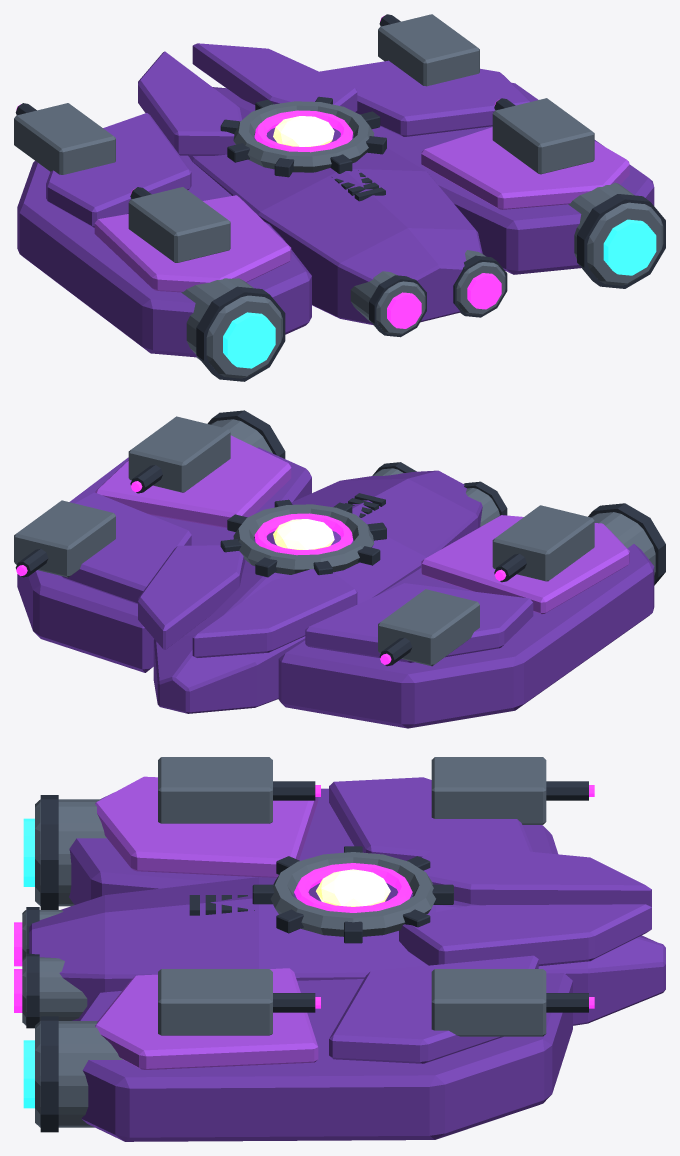
Rendered from tank_enemy.glb.
The picture shows the model from 3 angles, top to bottom: view 1: azimuth 30°, elevation 25°; view 2: azimuth 150°, elevation 25°; view 3: azimuth 270°, elevation 25°; orthographic projection. The views are drawn at different scales.
Parts seen in each view (by area): view 1: tank_enemy__Bastion_Hull, tank_enemy__Bastion_Gunmetal, tank_enemy__Bastion_Armor, tank_enemy__Bastion_Accent, tank_enemy__Bastion_Void, tank_enemy__Bastion_CyanSystems, tank_enemy__Bastion_Energy, tank_enemy__Bastion_HotCore; view 2: tank_enemy__Bastion_Hull, tank_enemy__Bastion_Armor, tank_enemy__Bastion_Gunmetal, tank_enemy__Bastion_Accent, tank_enemy__Bastion_Void, tank_enemy__Bastion_Energy, tank_enemy__Bastion_HotCore; view 3: tank_enemy__Bastion_Hull, tank_enemy__Bastion_Gunmetal, tank_enemy__Bastion_Armor, tank_enemy__Bastion_Accent, tank_enemy__Bastion_Void, tank_enemy__Bastion_Energy, tank_enemy__Bastion_HotCore, tank_enemy__Bastion_CyanSystems.
Part boxes in pixels (x1=…): tank_enemy__Bastion_Hull: x1=17, y1=82, x2=654, y2=357; tank_enemy__Bastion_Gunmetal: x1=14, y1=14, x2=663, y2=378; tank_enemy__Bastion_Armor: x1=46, y1=43, x2=530, y2=227; tank_enemy__Bastion_Accent: x1=94, y1=127, x2=629, y2=292; tank_enemy__Bastion_Void: x1=15, y1=14, x2=665, y2=381; tank_enemy__Bastion_CyanSystems: x1=223, y1=219, x2=656, y2=368; tank_enemy__Bastion_Energy: x1=16, y1=15, x2=501, y2=328; tank_enemy__Bastion_HotCore: x1=273, y1=116, x2=334, y2=146; tank_enemy__Bastion_Hull: x1=17, y1=447, x2=654, y2=728; tank_enemy__Bastion_Armor: x1=61, y1=492, x2=533, y2=662; tank_enemy__Bastion_Gunmetal: x1=14, y1=416, x2=655, y2=666; tank_enemy__Bastion_Accent: x1=95, y1=435, x2=629, y2=613; tank_enemy__Bastion_Void: x1=15, y1=410, x2=665, y2=666; tank_enemy__Bastion_Energy: x1=16, y1=481, x2=506, y2=664; tank_enemy__Bastion_HotCore: x1=273, y1=519, x2=334, y2=549; tank_enemy__Bastion_Hull: x1=29, y1=788, x2=665, y2=1141; tank_enemy__Bastion_Gunmetal: x1=22, y1=757, x2=546, y2=1127; tank_enemy__Bastion_Armor: x1=329, y1=777, x2=651, y2=1063; tank_enemy__Bastion_Accent: x1=95, y1=776, x2=318, y2=1069; tank_enemy__Bastion_Void: x1=26, y1=781, x2=588, y2=1132; tank_enemy__Bastion_Energy: x1=14, y1=785, x2=594, y2=1012; tank_enemy__Bastion_HotCore: x1=316, y1=869, x2=390, y2=906; tank_enemy__Bastion_CyanSystems: x1=23, y1=818, x2=34, y2=1108.
Bounding box in the file's own units: 6.12 × 1.36 × 5.67.
